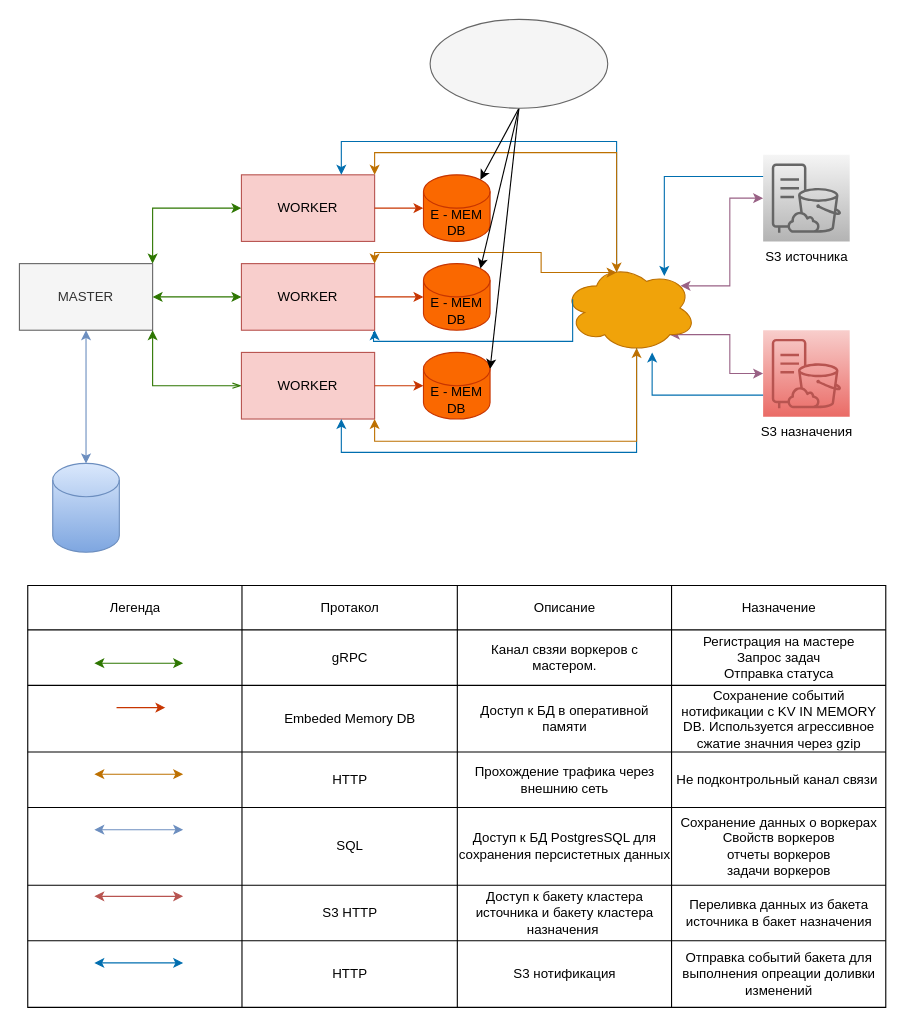
The diagram is 906 pixels wide and 1027 high, and some of its shapes have lost their labels. Here are the shapes that lost their labels. From the top down, the box of each, then its label:
(429, 18, 608, 108): Примерно 165 МиБ на 110_000 событий нотификаций
(562, 263, 697, 352): EXT NET
(52, 462, 119, 552): PG DB
